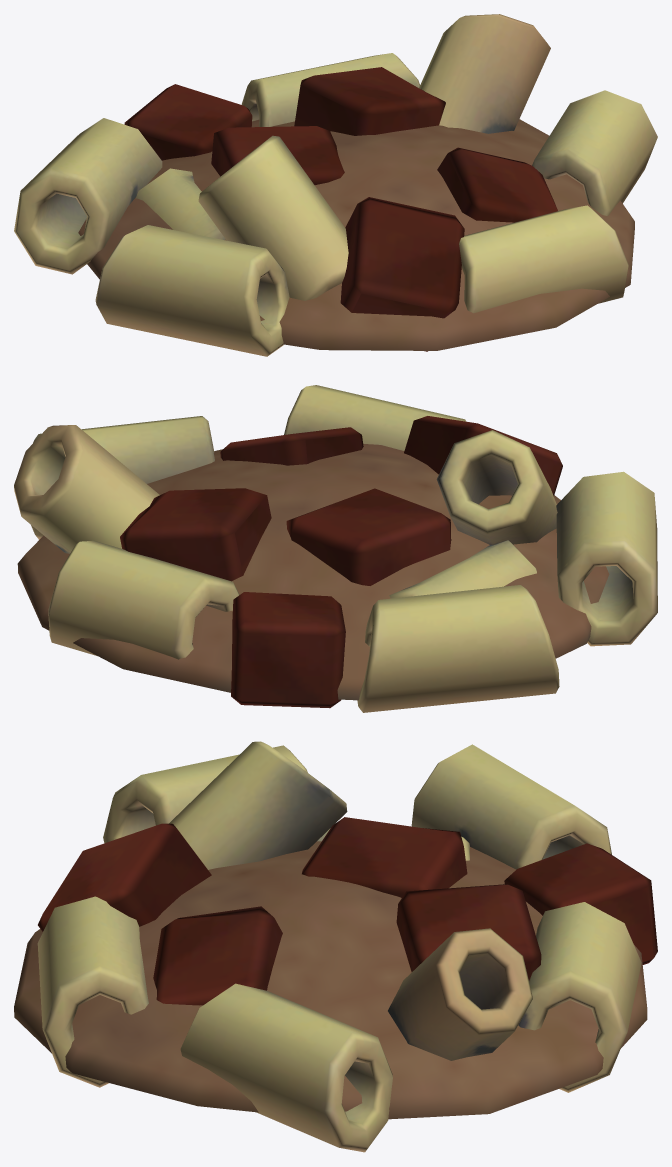
Rendered from Meat_Pasta.fbx.
The picture shows the model from 3 angles, top to bottom: view 1: azimuth 30°, elevation 25°; view 2: azimuth 150°, elevation 25°; view 3: azimuth 270°, elevation 25°; orthographic projection. The views are drawn at different scales.
Visible parts, largest first — view 1: recipe_meat_pasta_01; view 2: recipe_meat_pasta_01; view 3: recipe_meat_pasta_01.
Part boxes in pixels (x1,y1,x2,y2): recipe_meat_pasta_01: (14,14,657,356); recipe_meat_pasta_01: (14,385,657,712); recipe_meat_pasta_01: (14,741,657,1152).
Size of the model in its own units: 102 by 30.9 by 85.18.
Materials: 2 (2 with a texture image).
